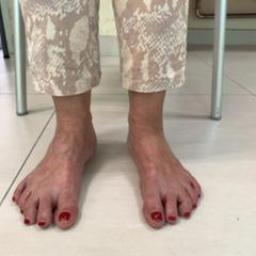Front View -Both Feet-: (4, 93, 214, 241)
